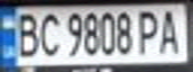0: (100, 8, 118, 56)
8: (115, 8, 136, 56), (81, 8, 100, 56)
9: (60, 8, 84, 57)
A: (154, 6, 187, 55)
B: (12, 9, 42, 58)
C: (36, 9, 63, 57)
P: (133, 7, 163, 55)
